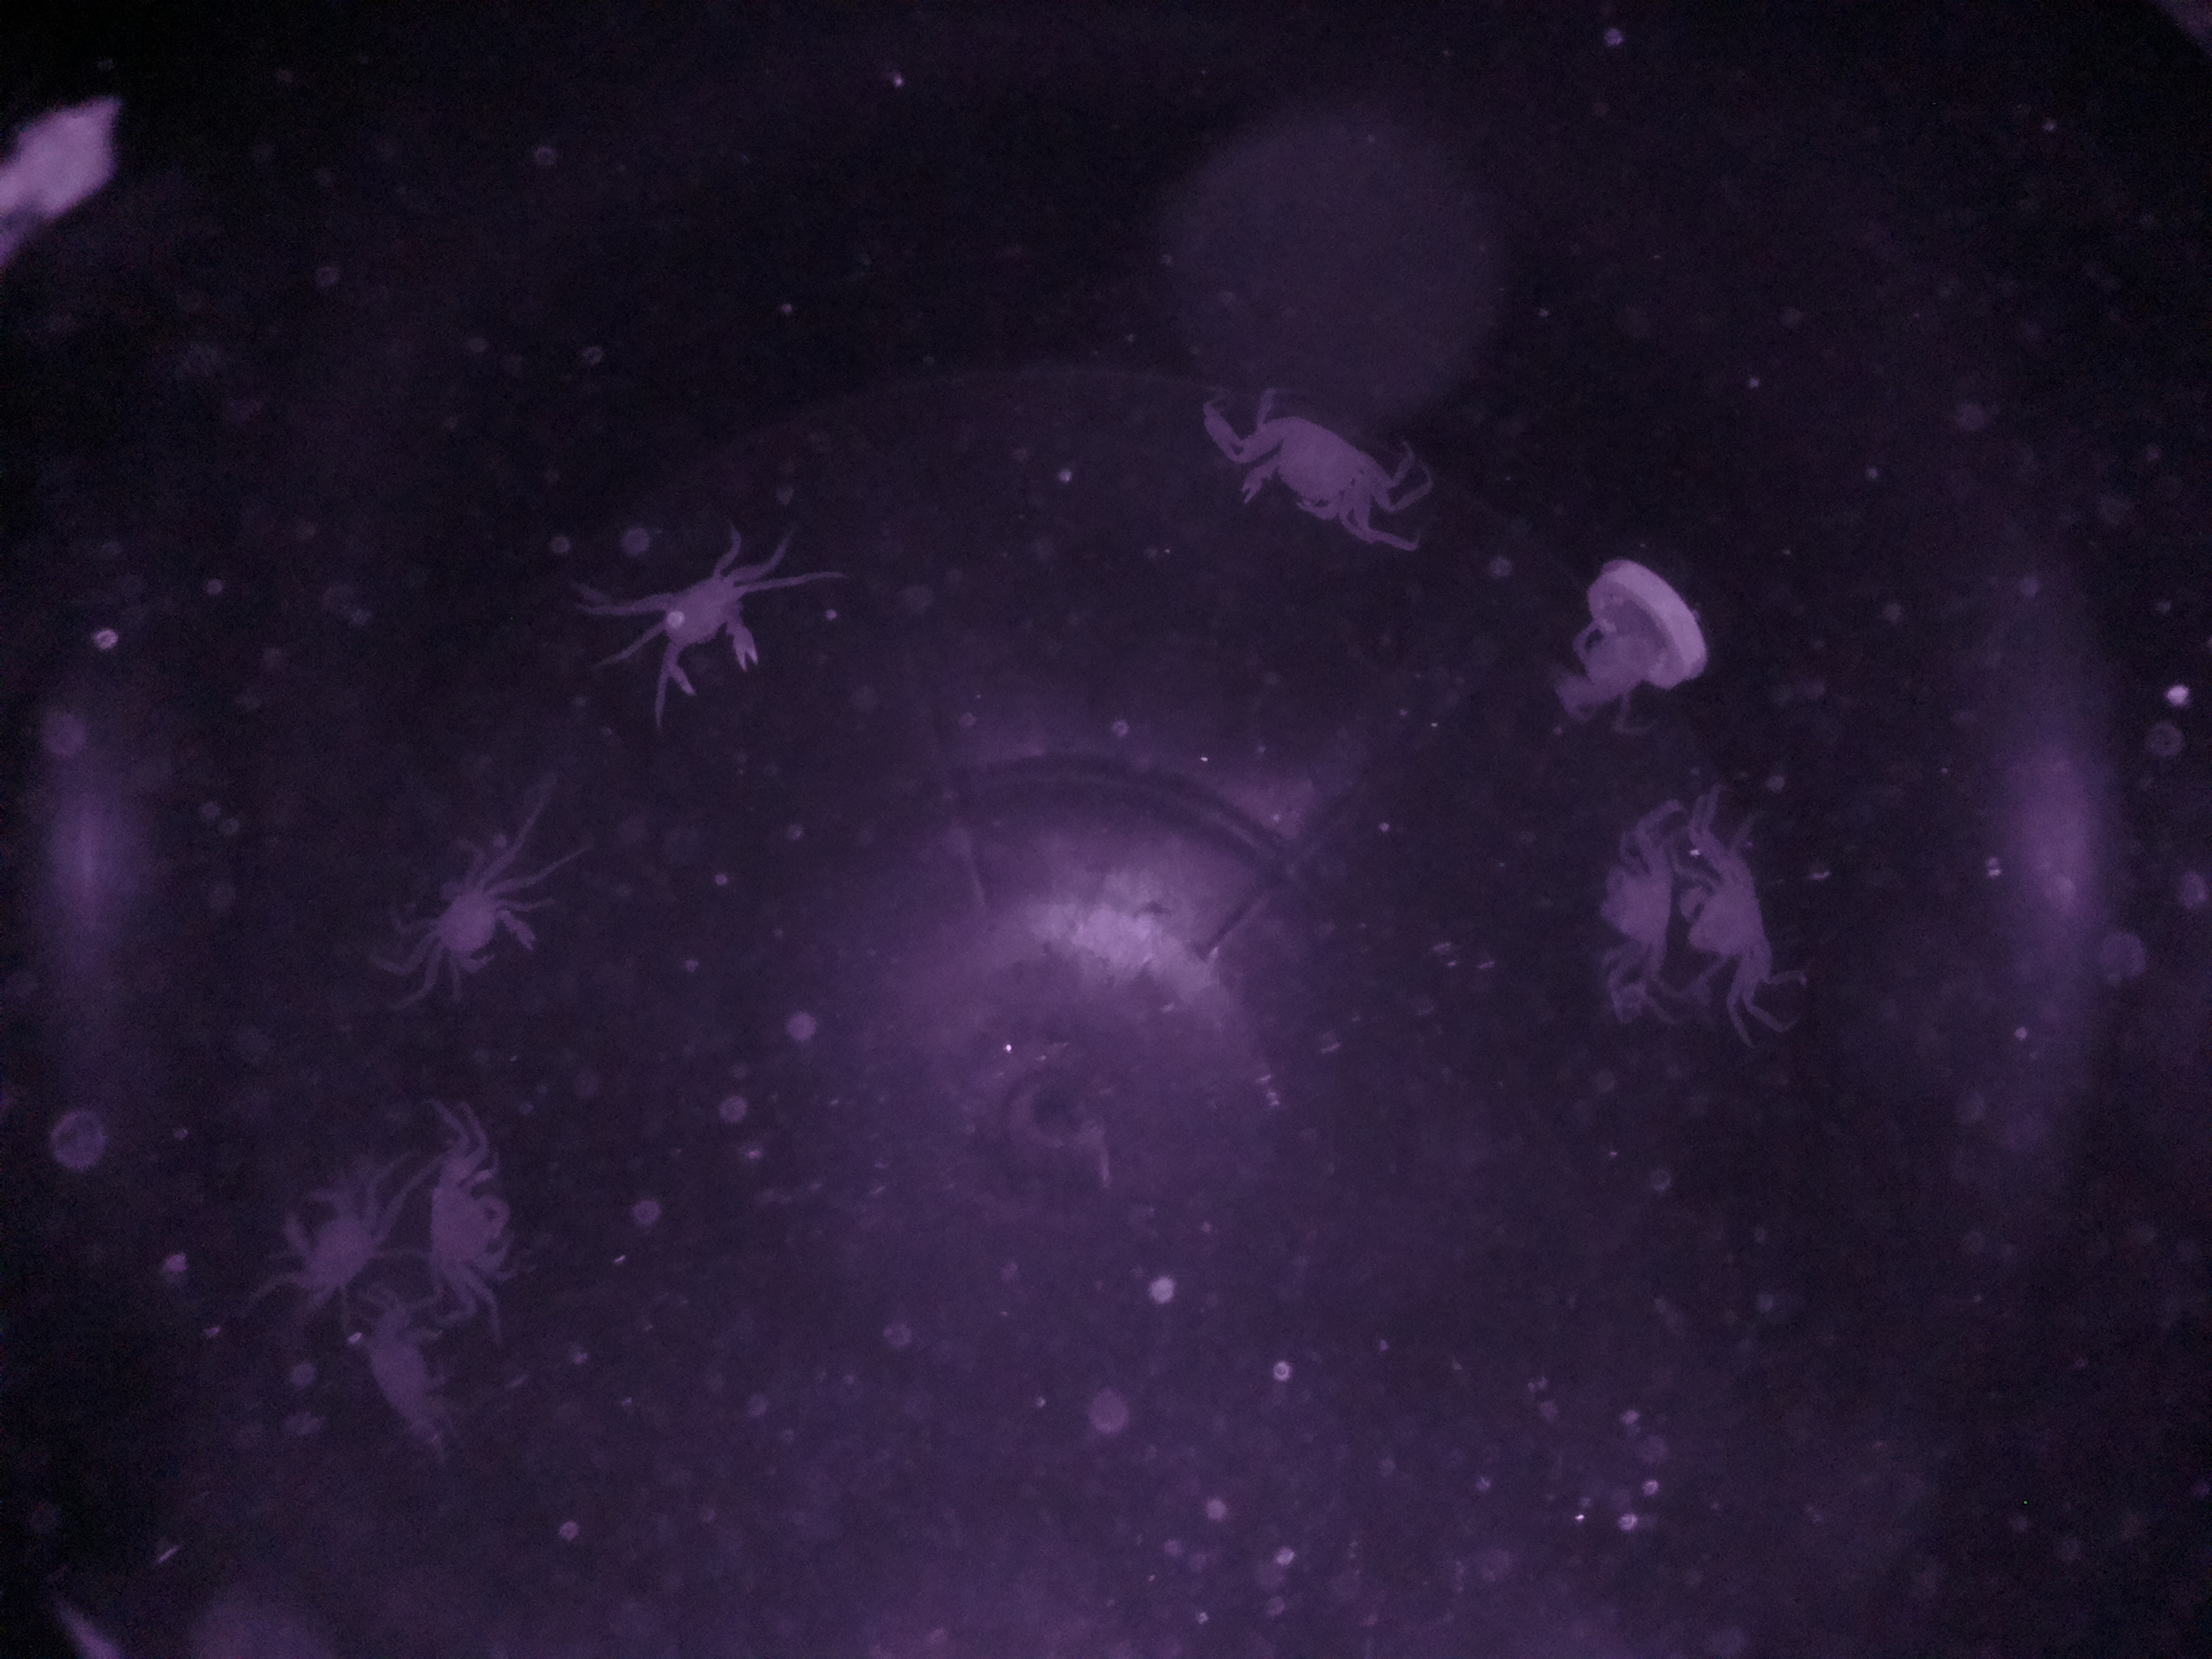Crab: (1198, 392, 1409, 549), (1676, 795, 1796, 1046), (622, 533, 768, 716), (404, 836, 554, 999), (263, 1155, 397, 1330), (421, 1131, 538, 1319), (1580, 828, 1663, 1063)
